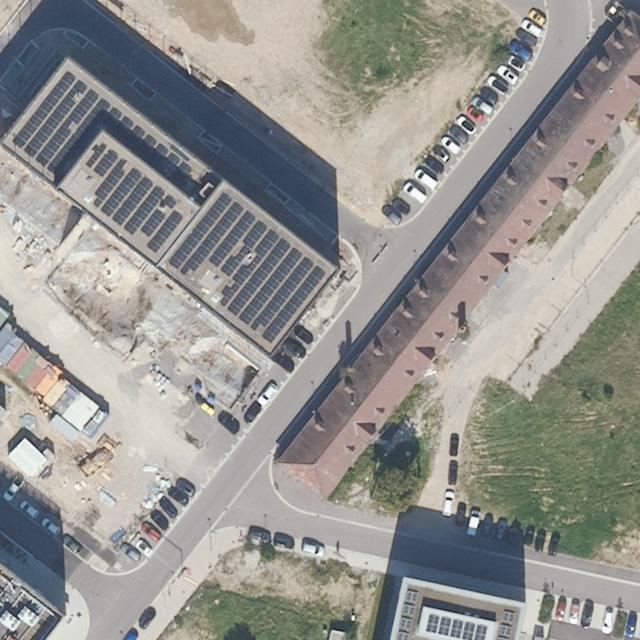PV: (164, 189, 331, 346), (7, 68, 198, 191), (82, 139, 169, 238), (421, 611, 493, 640), (143, 208, 186, 256), (393, 587, 420, 639), (138, 206, 169, 240), (494, 607, 519, 638), (160, 193, 181, 213)
